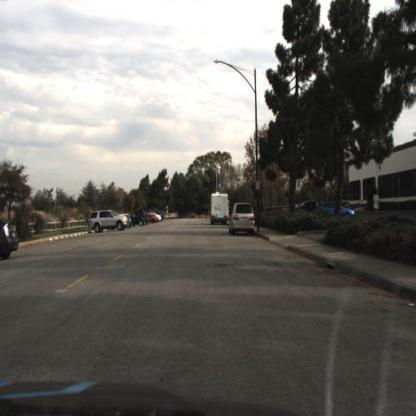car: (88, 208, 130, 235), (1, 210, 20, 267), (228, 200, 257, 235), (315, 198, 356, 219), (128, 209, 149, 229)
truck: (208, 187, 231, 229)
